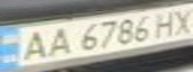6: (75, 20, 103, 52), (130, 12, 157, 43)
7: (96, 17, 121, 50)
8: (115, 16, 139, 46)
A: (12, 27, 54, 63), (39, 25, 75, 58)
H: (148, 8, 184, 38)
X: (166, 6, 193, 35)
